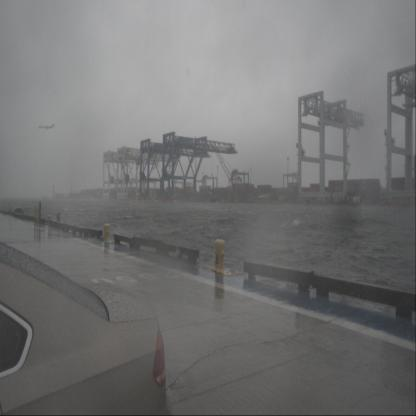vehicle-car: (0, 240, 167, 415)
